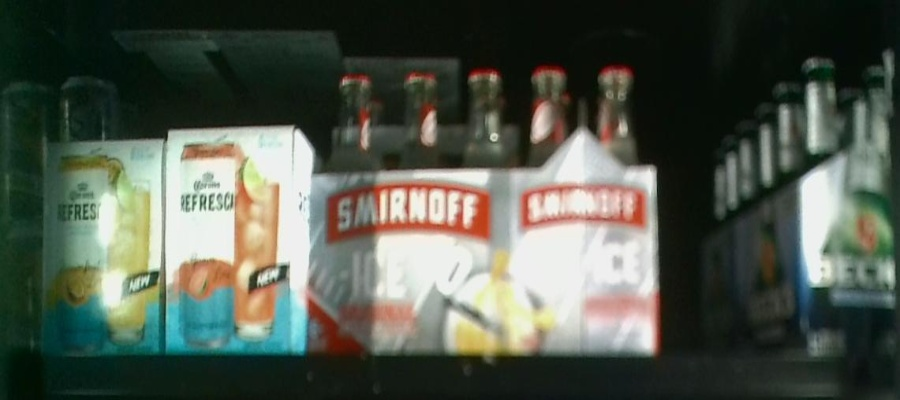bottle: (311, 68, 505, 356), (504, 65, 660, 356), (167, 124, 305, 359), (797, 52, 900, 355), (43, 135, 166, 357)
